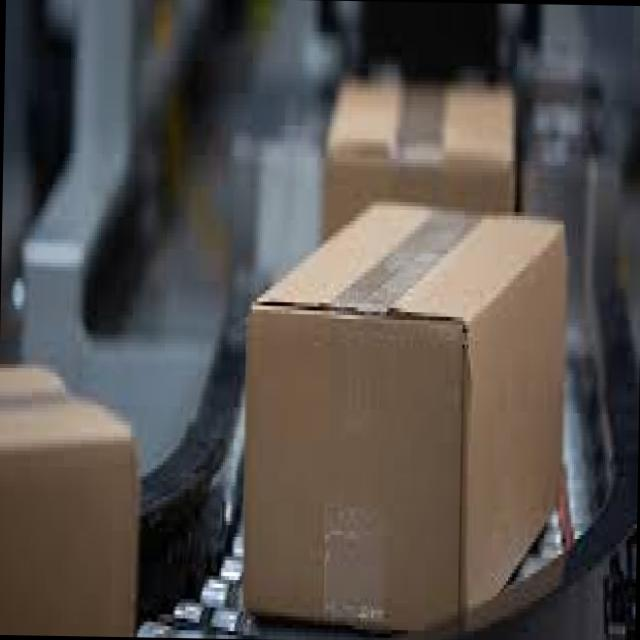box: (243, 197, 570, 640), (1, 362, 143, 636), (317, 75, 518, 248)
